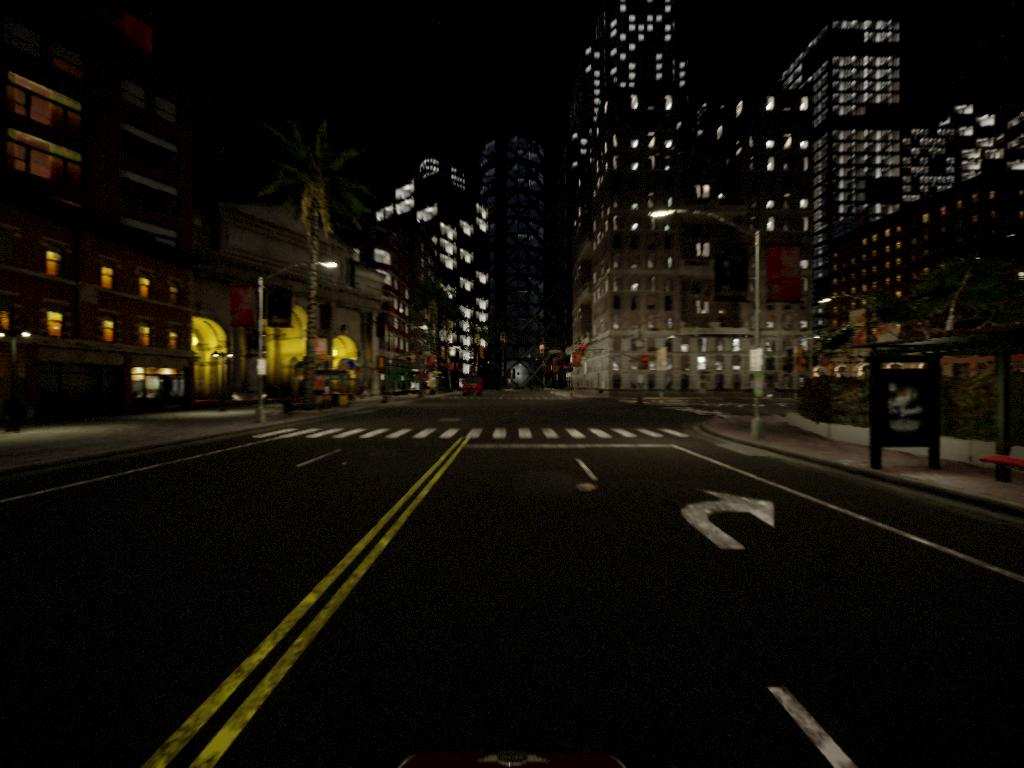traffic_light: (641, 357, 654, 370), (580, 342, 588, 359)
